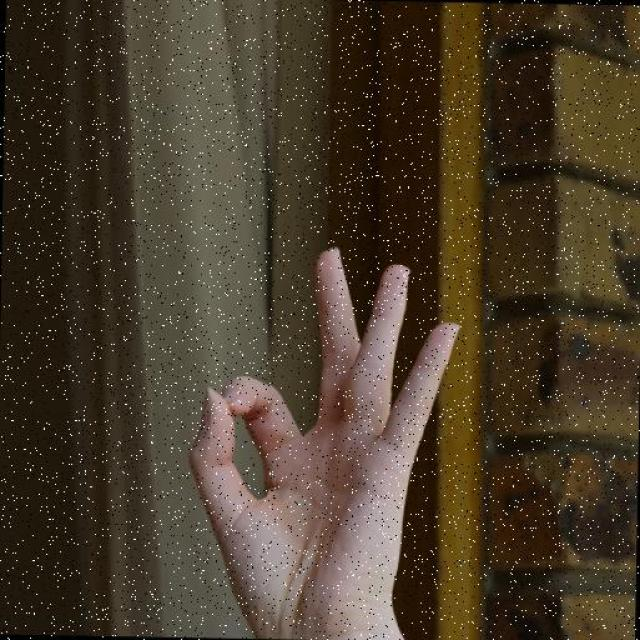F: (182, 241, 468, 638)
